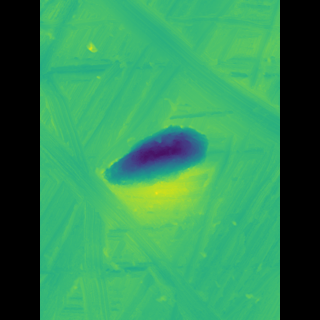Loch: (111, 0, 248, 157), (70, 72, 128, 319), (110, 118, 198, 192)
